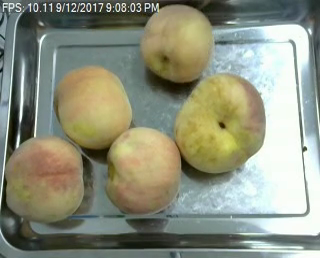Peach: (174, 74, 266, 173), (4, 134, 85, 224), (103, 125, 181, 214), (54, 65, 132, 149), (141, 3, 214, 82)
